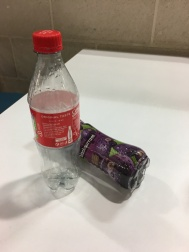bottle_purple: (83, 113, 155, 192)
bottle_red: (22, 27, 86, 196)
